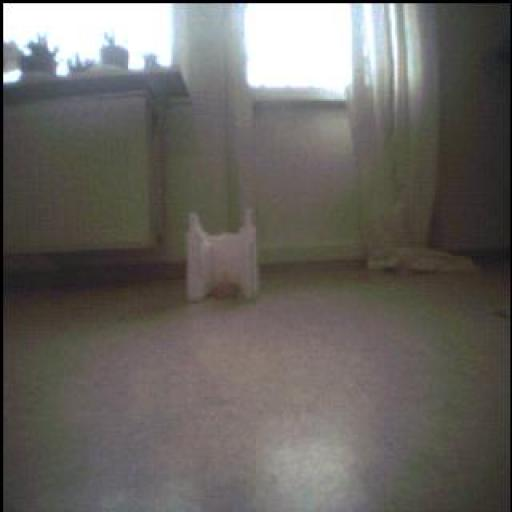Basket: (212, 270, 240, 302)
